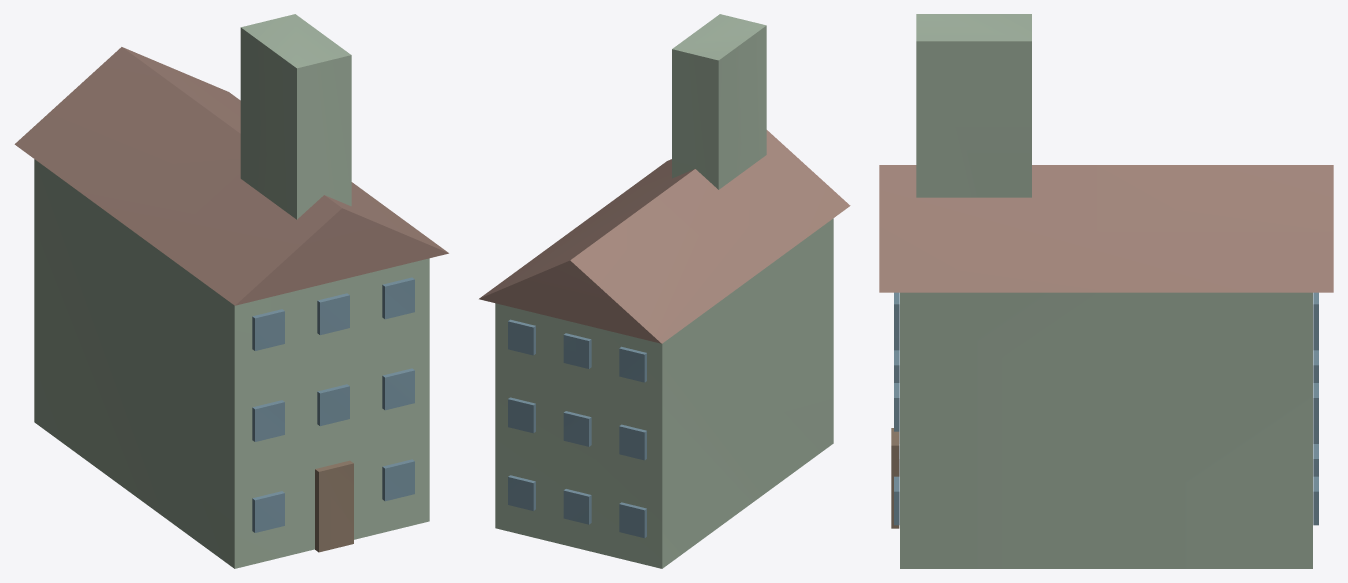
File: church-03.glb
The picture shows the model from 3 angles, left to right: view 1: azimuth 30°, elevation 25°; view 2: azimuth 150°, elevation 25°; view 3: azimuth 270°, elevation 25°; orthographic projection. The views are drawn at different scales.
Visible parts, largest first — view 1: world; view 2: world; view 3: world.
Part boxes in pixels (left/top/right/bottom): world: left=14, top=14, right=448, bottom=568; world: left=479, top=14, right=850, bottom=568; world: left=879, top=14, right=1333, bottom=568.
Bounding box in the file's own units: 1.11 × 2.37 × 1.98.
